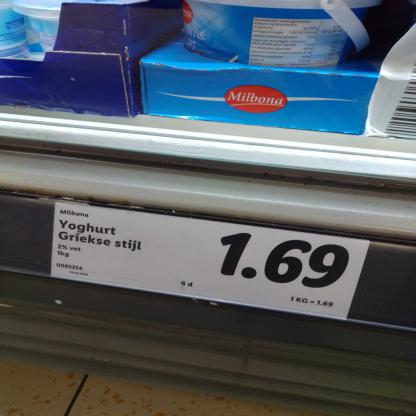prtg: (51, 203, 371, 322)
